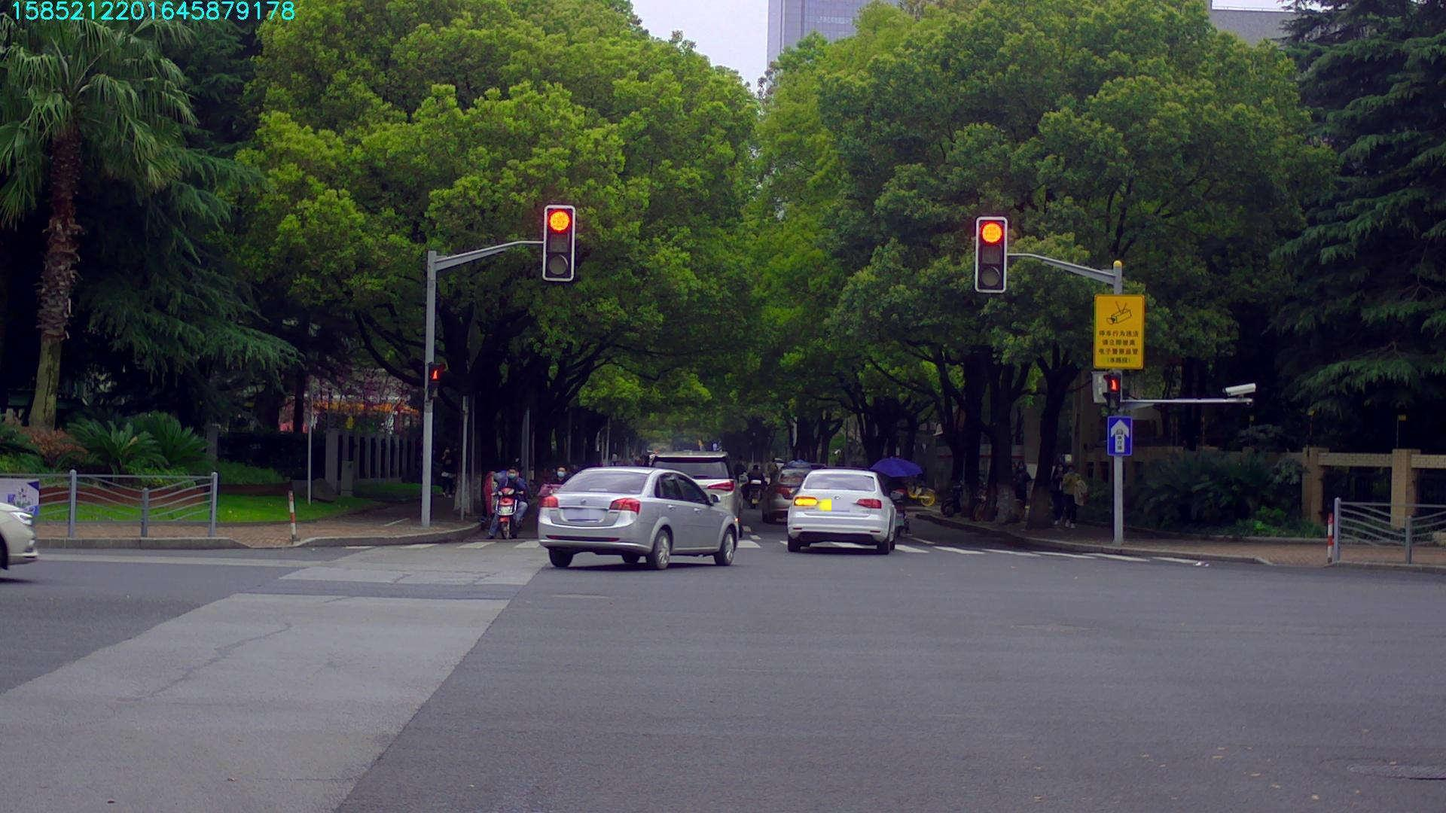red: (978, 218, 1005, 291), (545, 207, 572, 279)
